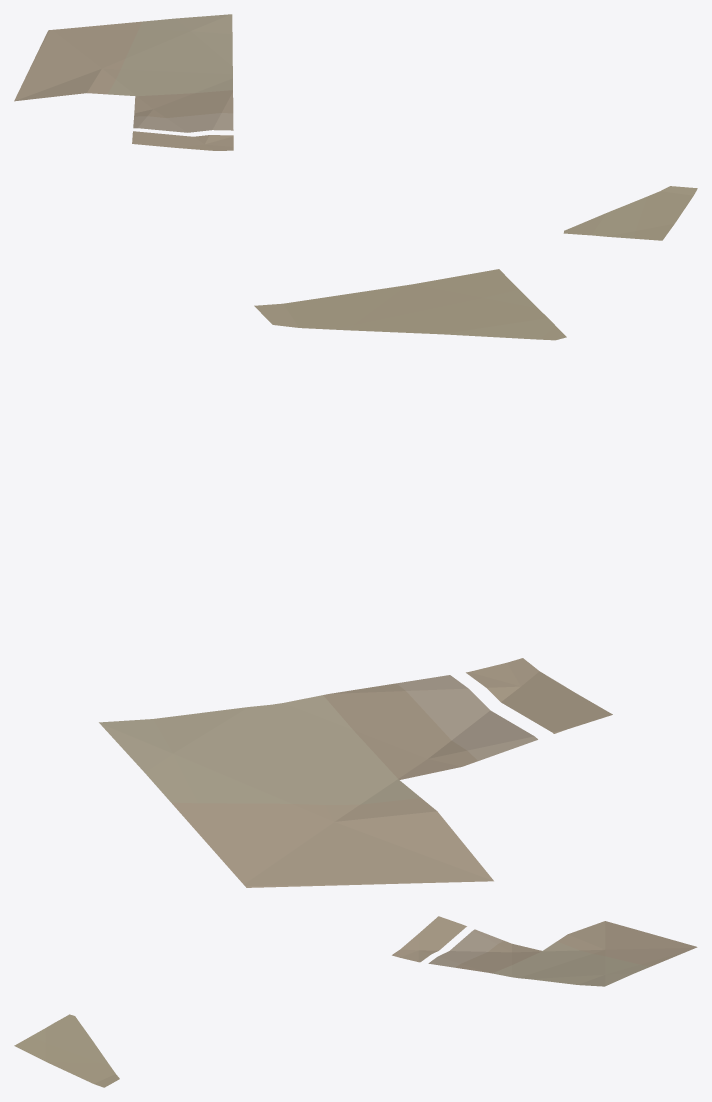
Rendered from farm_-33_-29_soil.glb.
The picture shows the model from 3 angles, top to bottom: view 1: azimuth 30°, elevation 25°; view 2: azimuth 150°, elevation 25°; view 3: azimuth 270°, elevation 25°; orthographic projection. The views are drawn at different scales.
Visible parts, largest first — view 1: geometry_0; view 2: geometry_0; view 3: geometry_0.
Boxes of the visible parts, x1=… form: geometry_0: x1=14, y1=14, x2=697, y2=240; geometry_0: x1=99, y1=269, x2=612, y2=887; geometry_0: x1=14, y1=916, x2=697, y2=1087.
Bounding box in the file's own units: 367 × 29.31 × 587.
